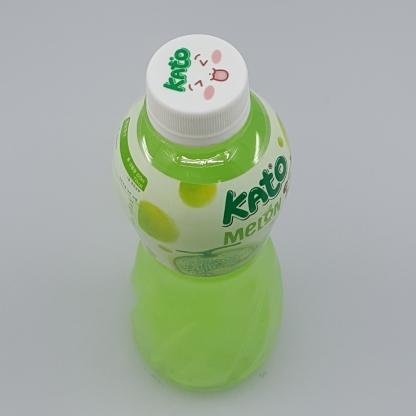-----------: (112, 34, 292, 392)
